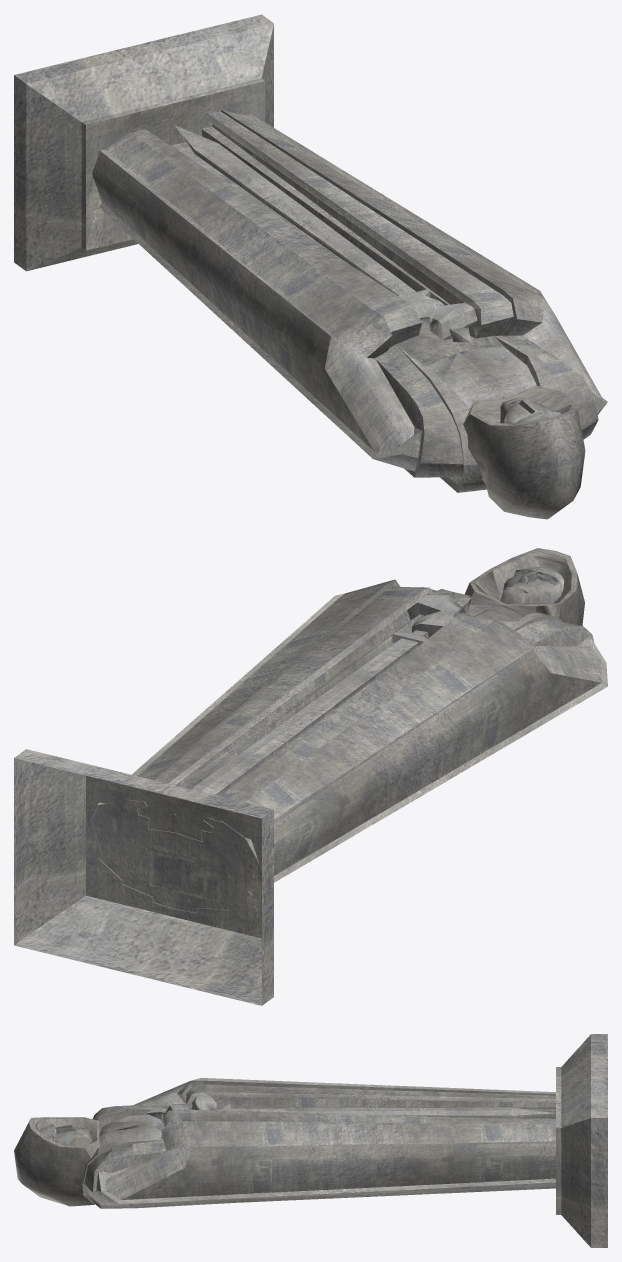
The model's file is rv_mod_cit_statue.obj.
The picture shows the model from 3 angles, top to bottom: view 1: azimuth 30°, elevation 25°; view 2: azimuth 150°, elevation 25°; view 3: azimuth 270°, elevation 25°; orthographic projection. The views are drawn at different scales.
Visible parts, largest first — view 1: rv_mod_cit_statue; view 2: rv_mod_cit_statue; view 3: rv_mod_cit_statue.
Boxes of the visible parts, bbox=[...] form: rv_mod_cit_statue: bbox=[14, 14, 607, 519]; rv_mod_cit_statue: bbox=[14, 548, 607, 1005]; rv_mod_cit_statue: bbox=[14, 1034, 607, 1247].
Bounding box in the file's own units: 5.72 × 4.13 × 17.13.
Materials: 1 (1 with a texture image).
